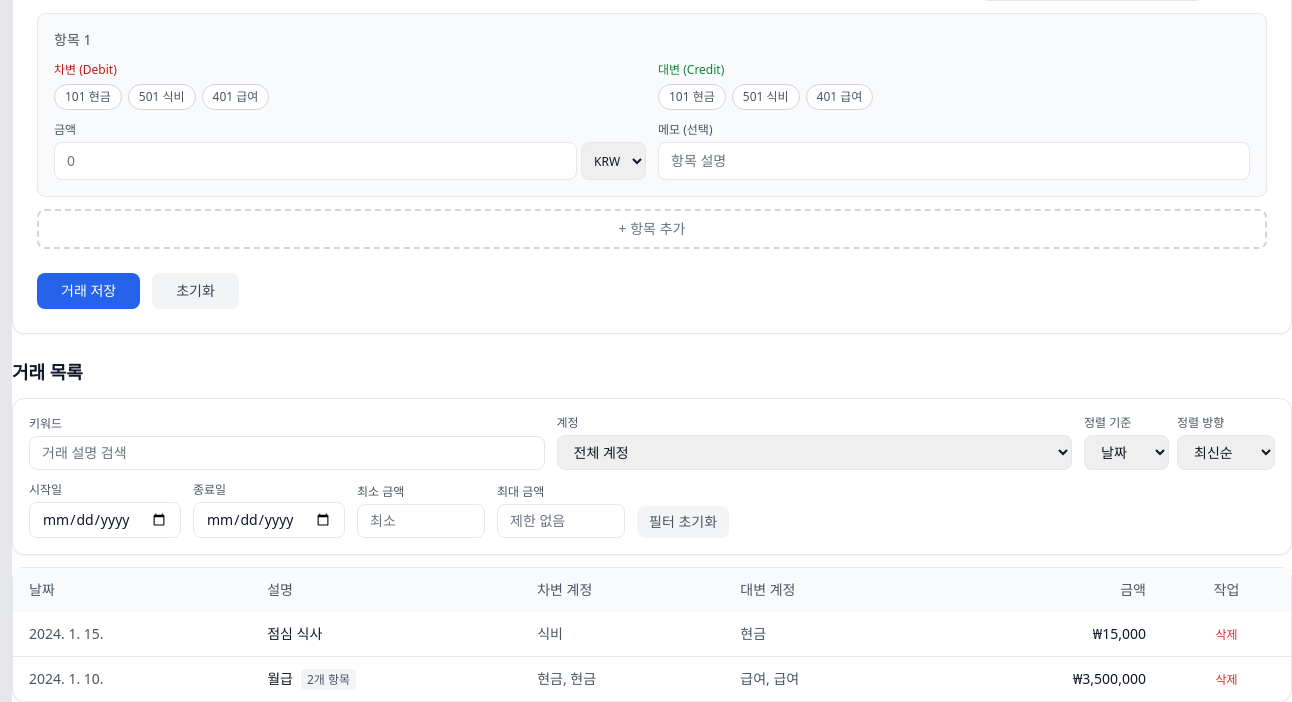
Test: TransactionsPage › 거래 행 클릭 시 확장 영역에 수정 폼이 나타난다
(page scrolled)
Expected: the text "점심 식사" is shown, [251,612,521,656]
Step 1. Click the text "점심 식사" → click(66, 634), box [13,612,1291,656]
(page scrolled)
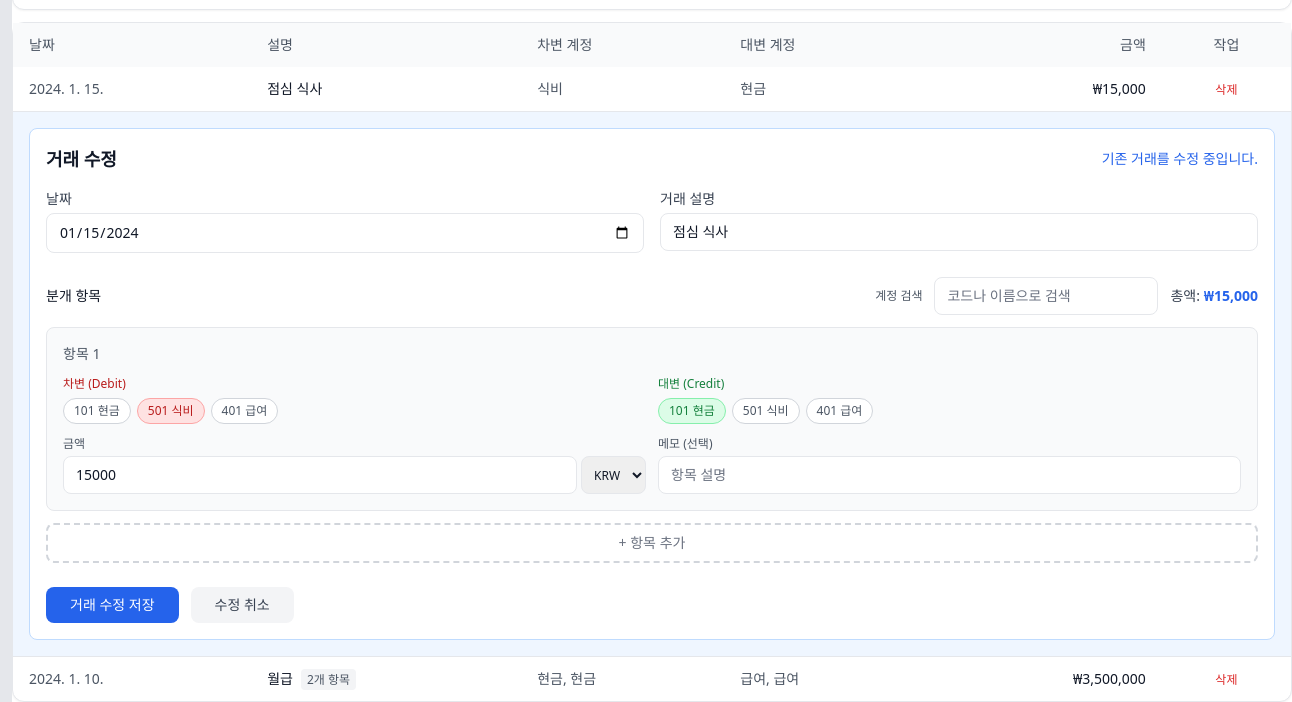
Expected: the heading "거래 수정" is shown, [46,145,117,173]
Expected: the field with placeholder "거래 내용을 입력하세요" holds "점심 식사", [660,213,1258,251]
Expected: the number field with placeholder "0" holds "15000", [63,456,577,494]
